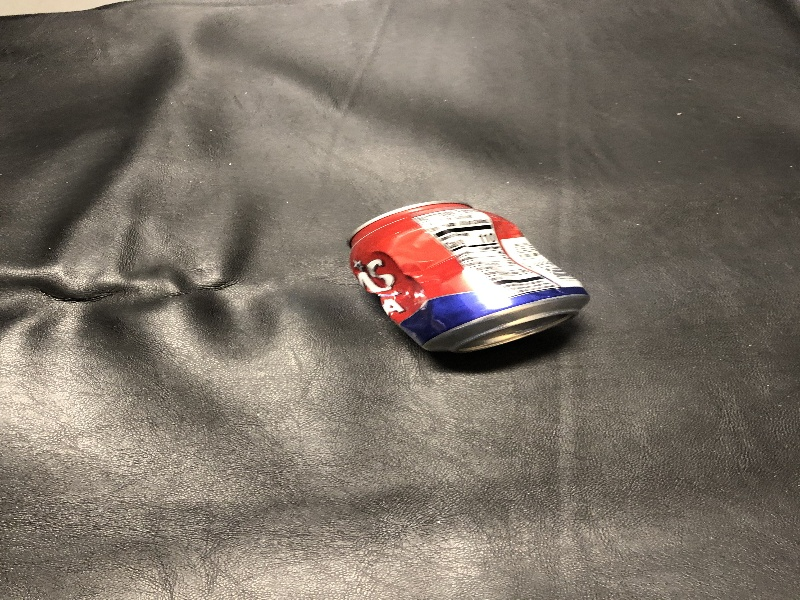metal: (327, 190, 604, 365)
